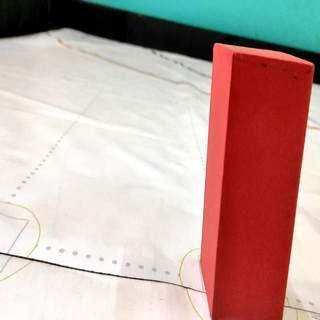redbox: (199, 41, 315, 320)
